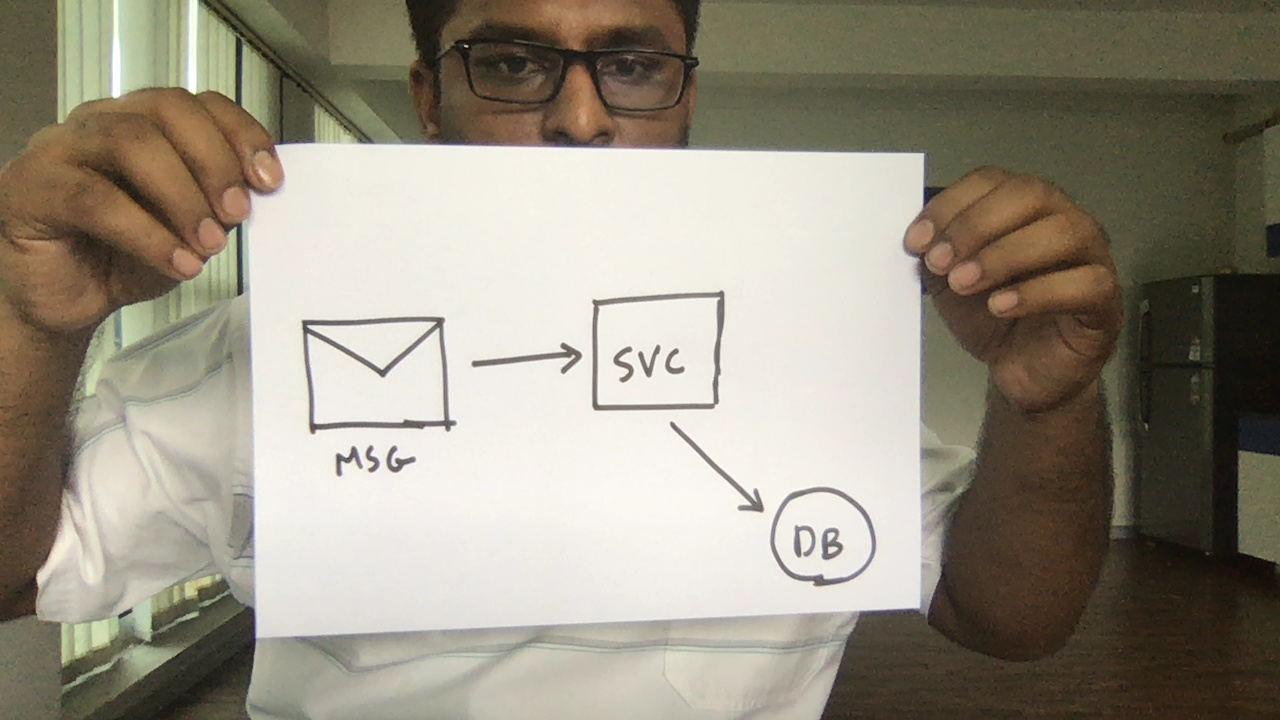arrow: (665, 416, 771, 524), (466, 325, 587, 399)
db: (770, 481, 881, 589)
ec2: (585, 282, 731, 424)
sns: (296, 308, 457, 480)
